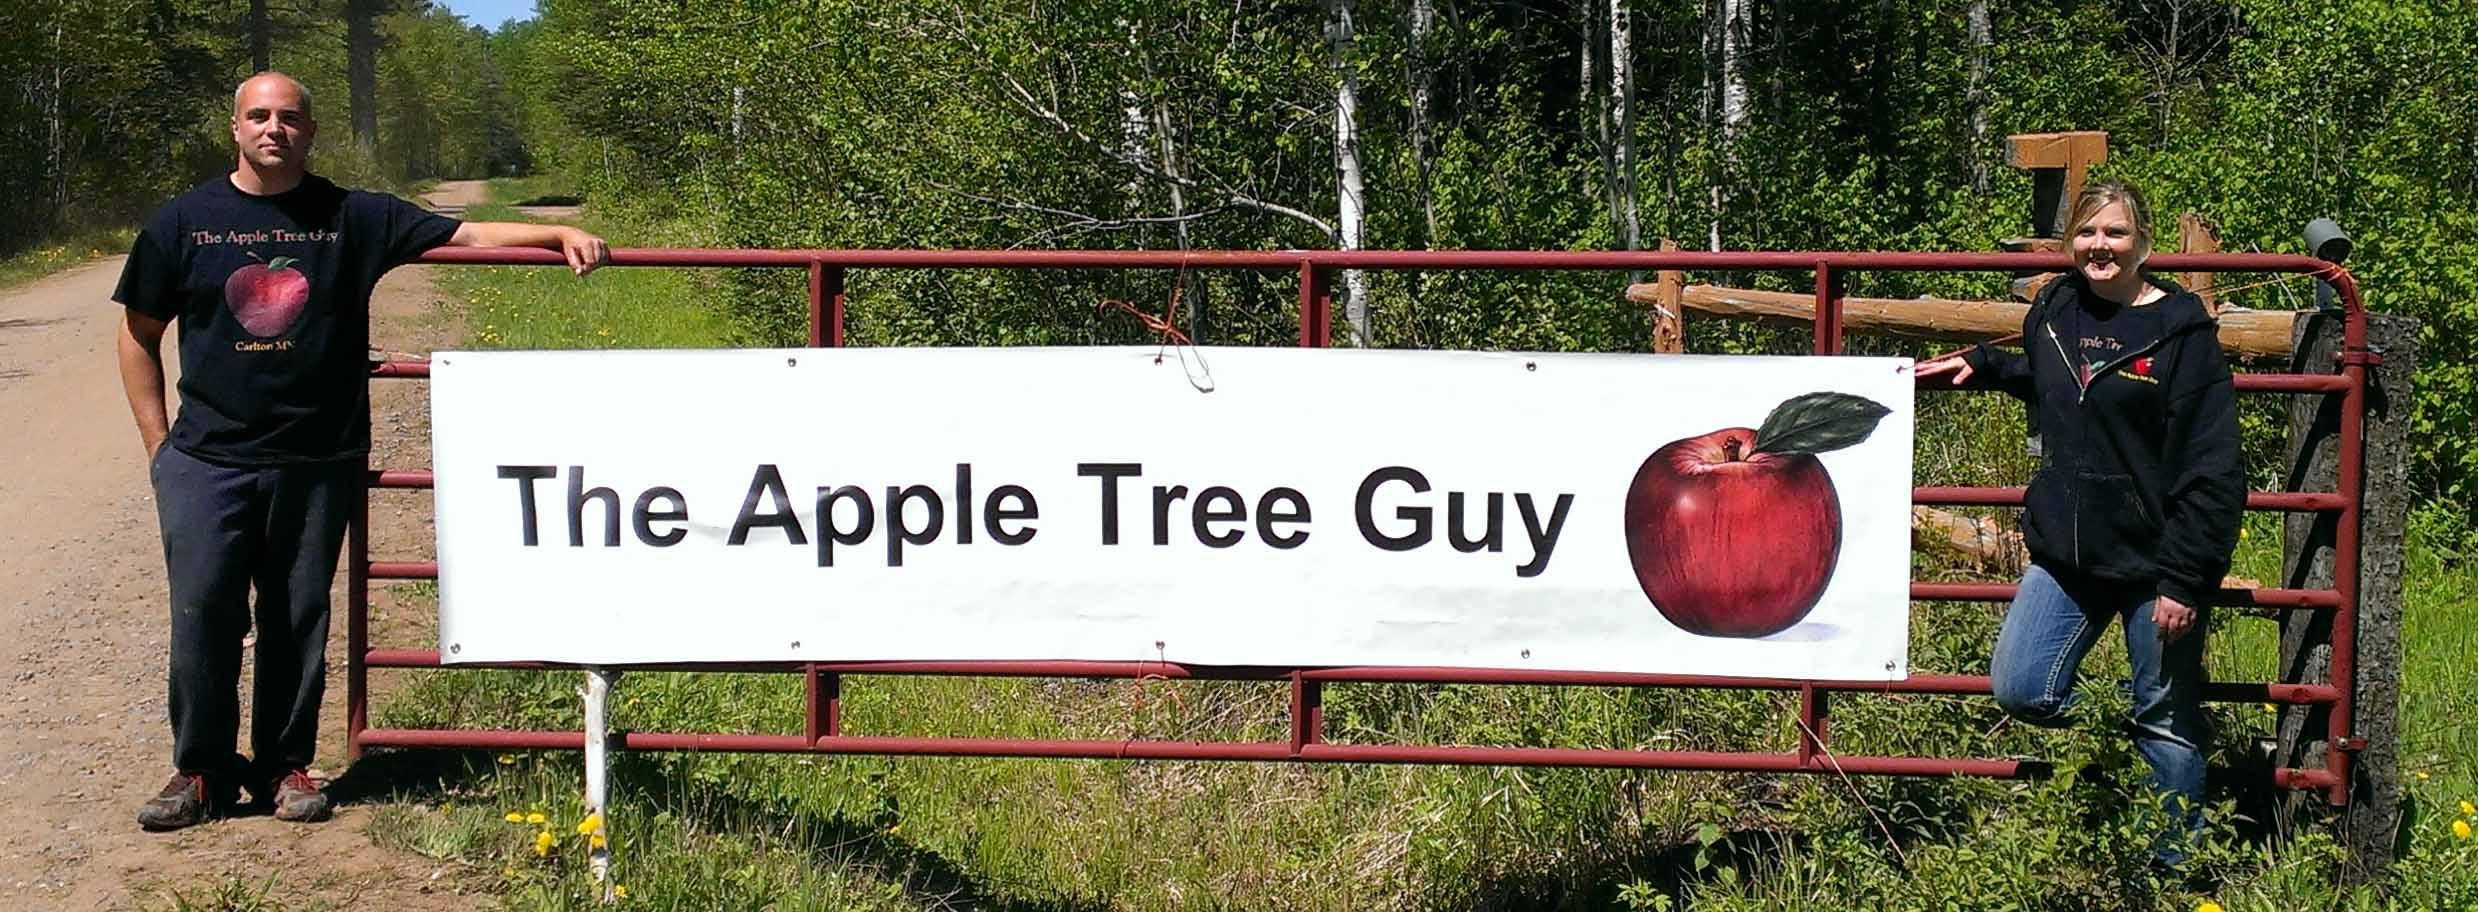apple: (1628, 428, 1844, 639)
